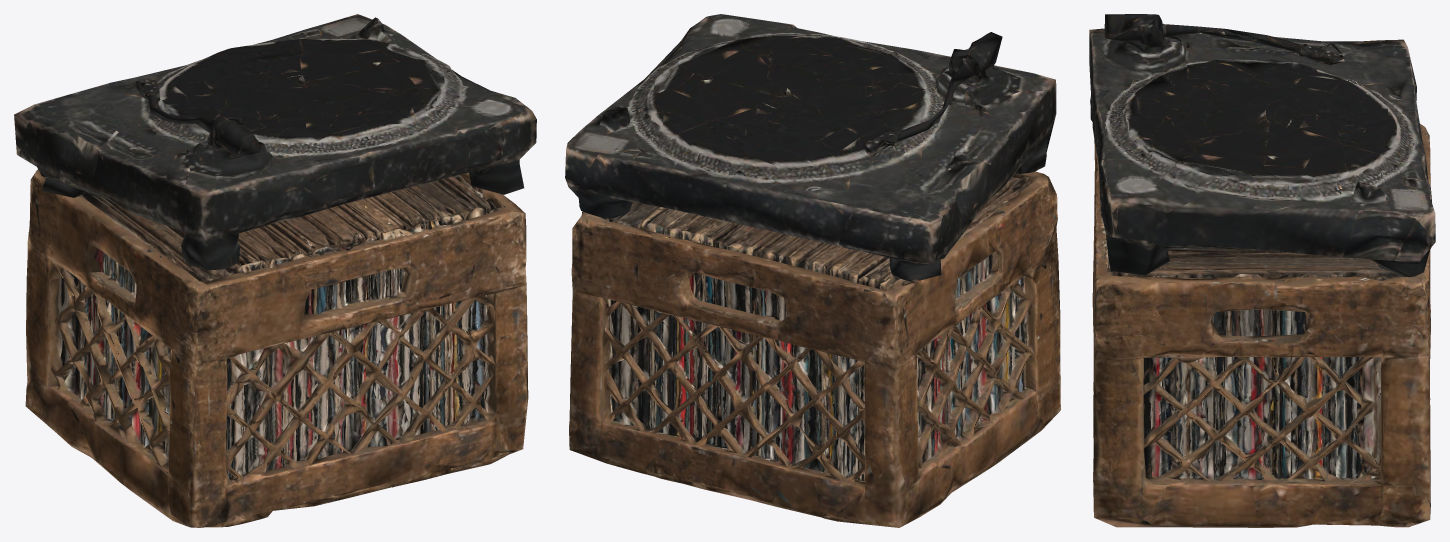
File: desktop.glb
The picture shows the model from 3 angles, left to right: view 1: azimuth 30°, elevation 25°; view 2: azimuth 150°, elevation 25°; view 3: azimuth 270°, elevation 25°; orthographic projection. The views are drawn at different scales.
Visible parts, largest first — view 1: d-turntablecrate; view 2: d-turntablecrate; view 3: d-turntablecrate.
Part boxes in pixels (bbox=[...]): d-turntablecrate: bbox=[14, 14, 536, 527]; d-turntablecrate: bbox=[565, 14, 1060, 527]; d-turntablecrate: bbox=[1089, 14, 1435, 527].
Bounding box in the file's own units: 0.4996 × 0.4843 × 0.3976.
1 material, 1 textured.
